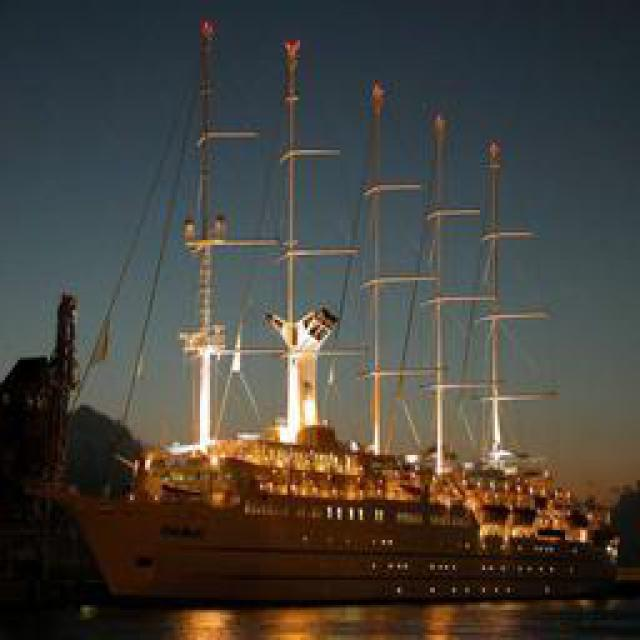Ship: (64, 6, 632, 616)
